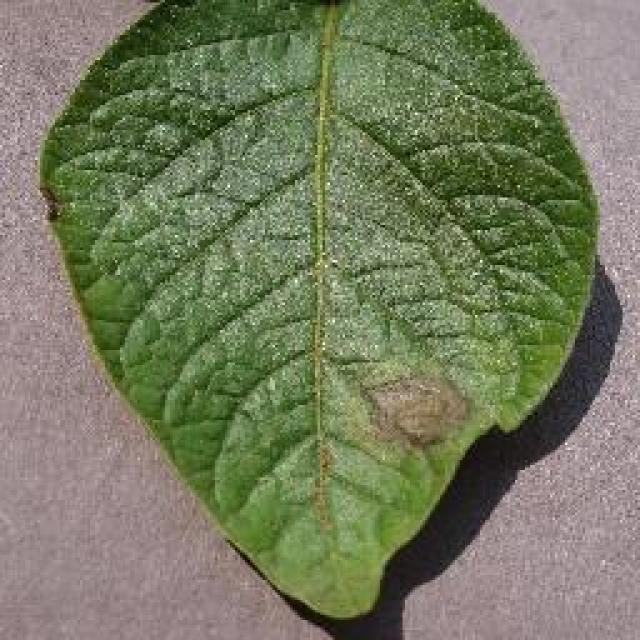Potato___Late_blight: (35, 0, 604, 629)
